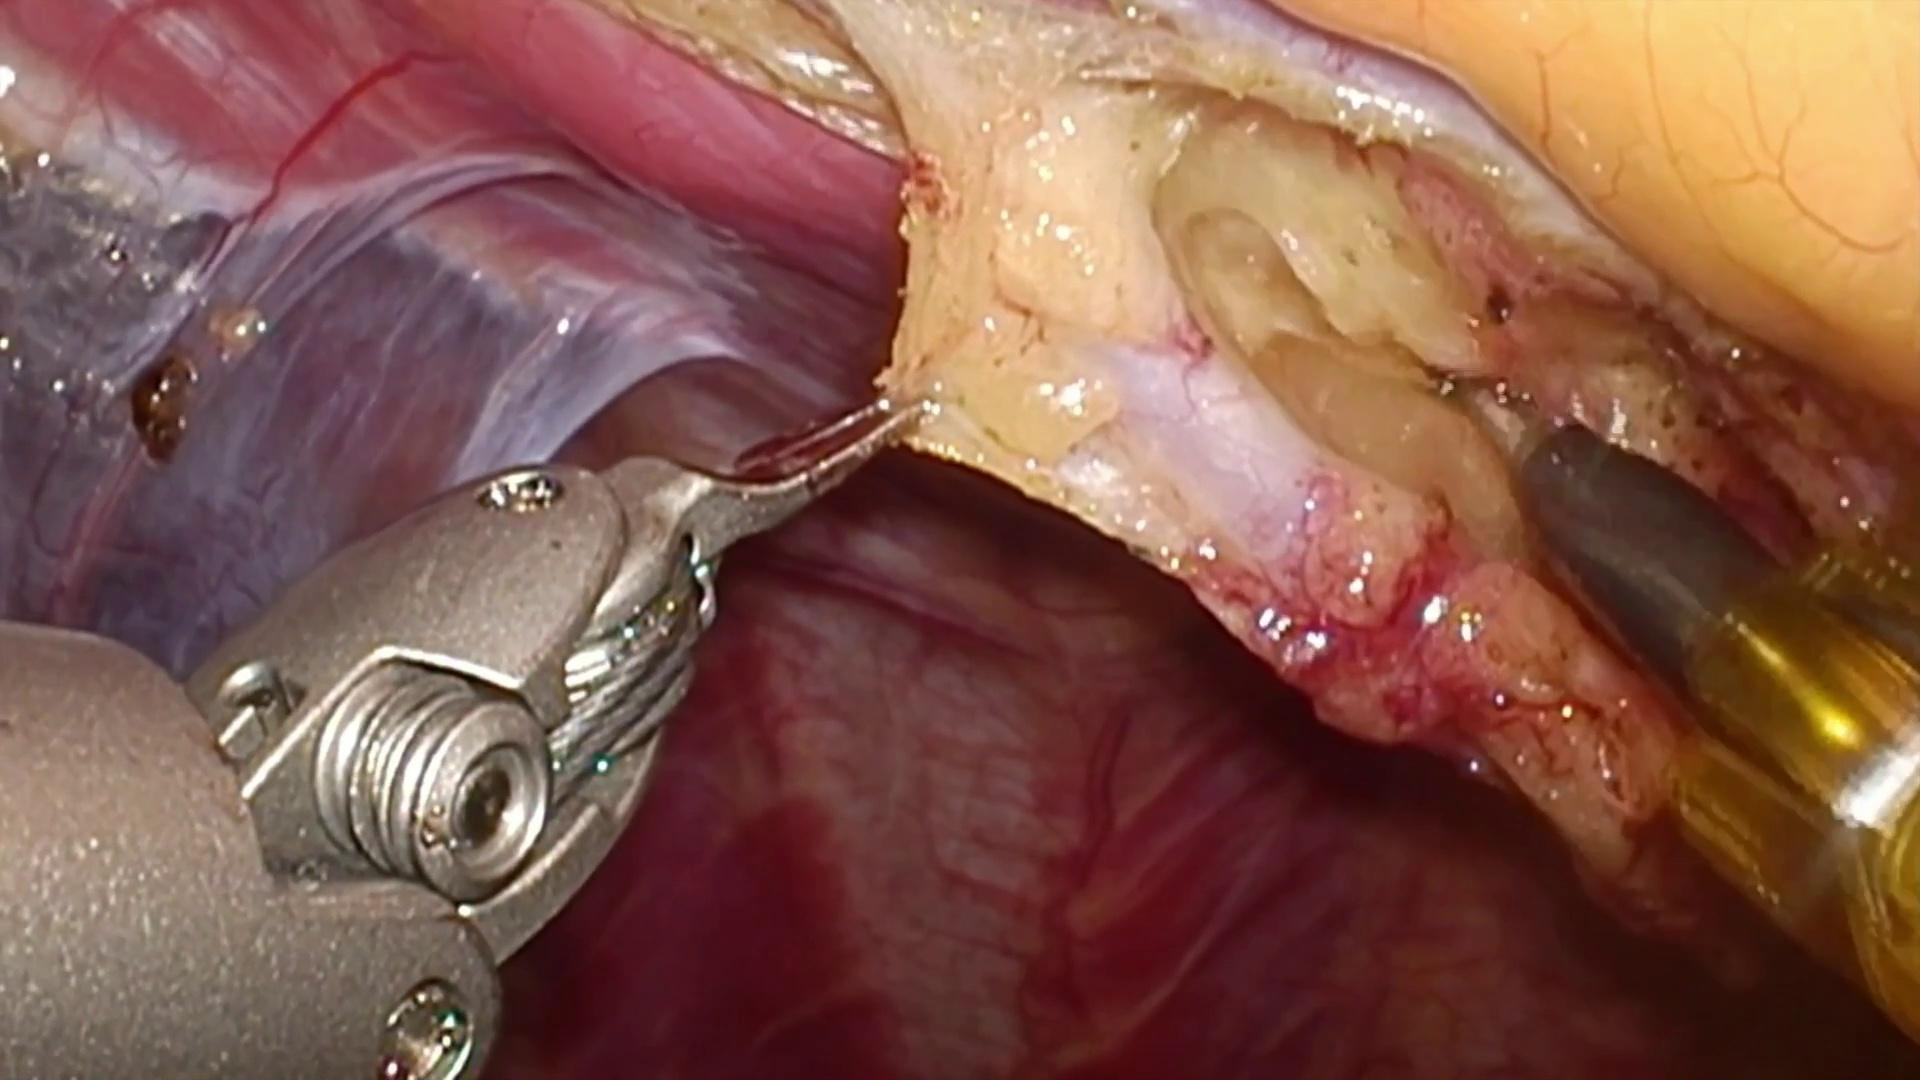Cautery_Spatula: (1451, 380, 1789, 694)
Debakey: (585, 368, 927, 607)
